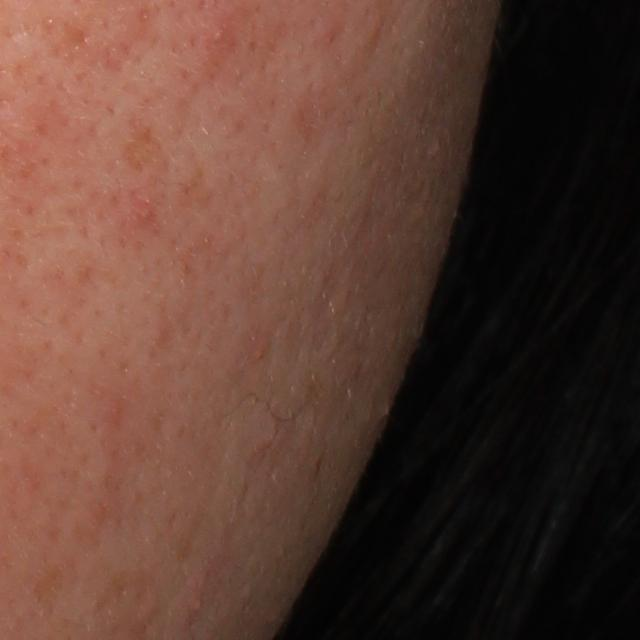papule: (130, 200, 163, 228)
